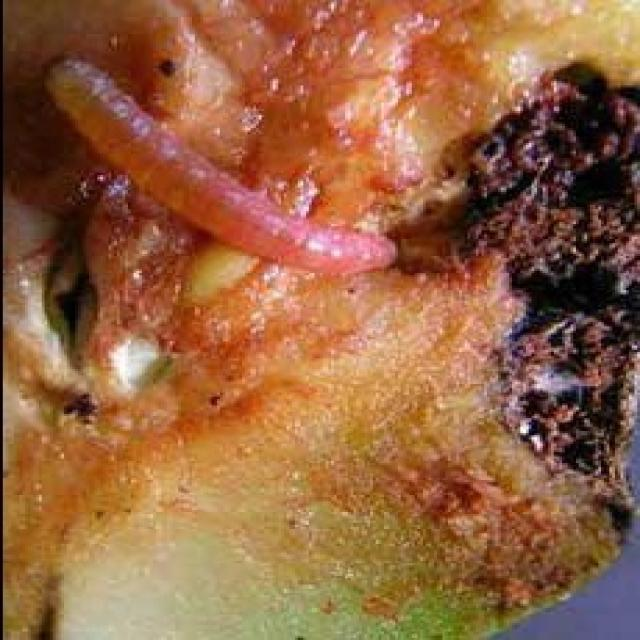peach borer: (40, 55, 402, 288)
